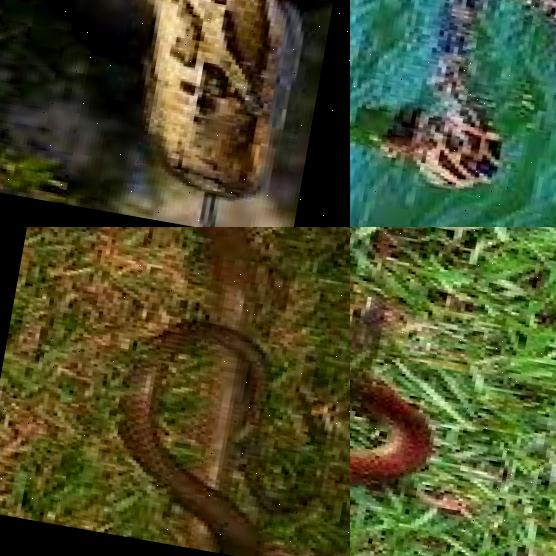2: (350, 277, 556, 556)
5: (0, 227, 350, 556)
snake: (0, 0, 350, 227), (350, 0, 556, 227)
